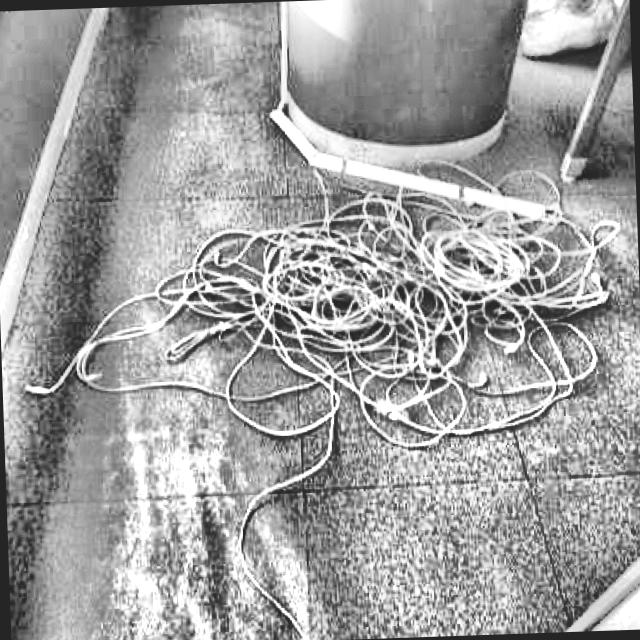Cable: (16, 156, 632, 458)
